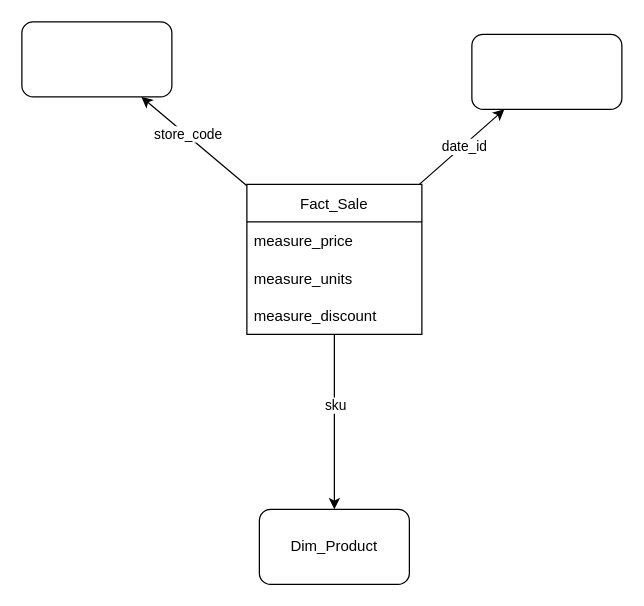
The diagram is 644 pixels wide and 606 high, and some of its shapes have lost their labels. The shapes that lost their labels are listed below. From the top down, each one's centre as x and y in pixels, then its label:
At (x=96, y=59): "Dim_Store".
At (x=546, y=71): "Dim_Date".
